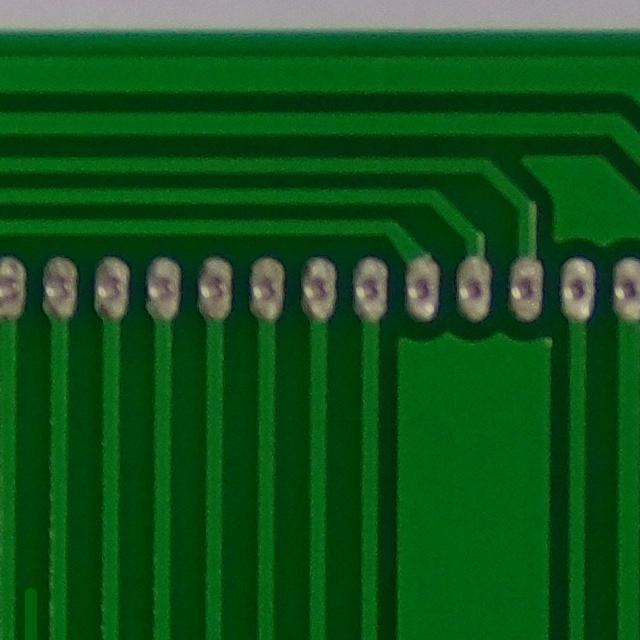spurious_copper: (9, 577, 60, 640)
